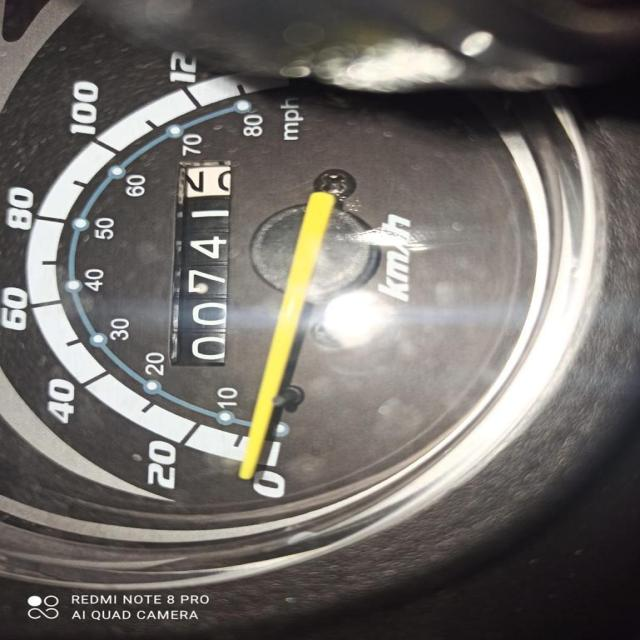odometer: (158, 155, 239, 373)
